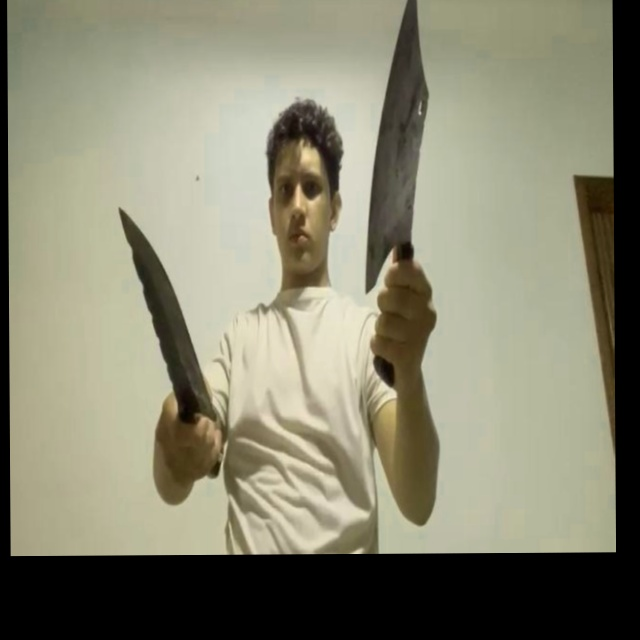Sharp-Object: (364, 0, 435, 295), (119, 206, 213, 419)
